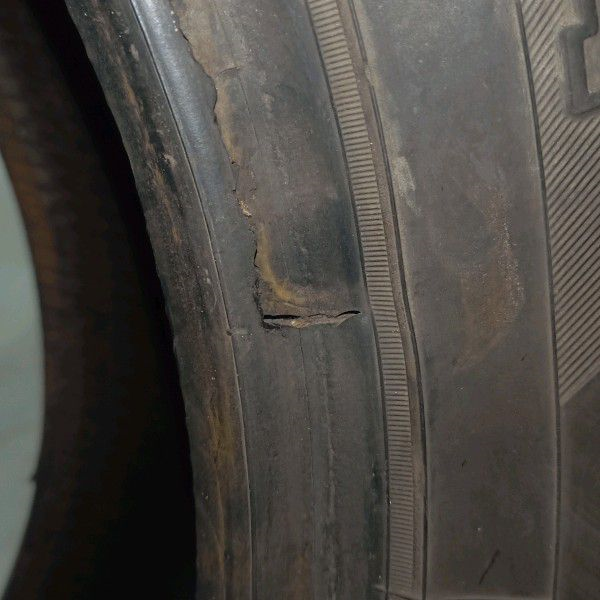bead_damage: (163, 1, 375, 340)
